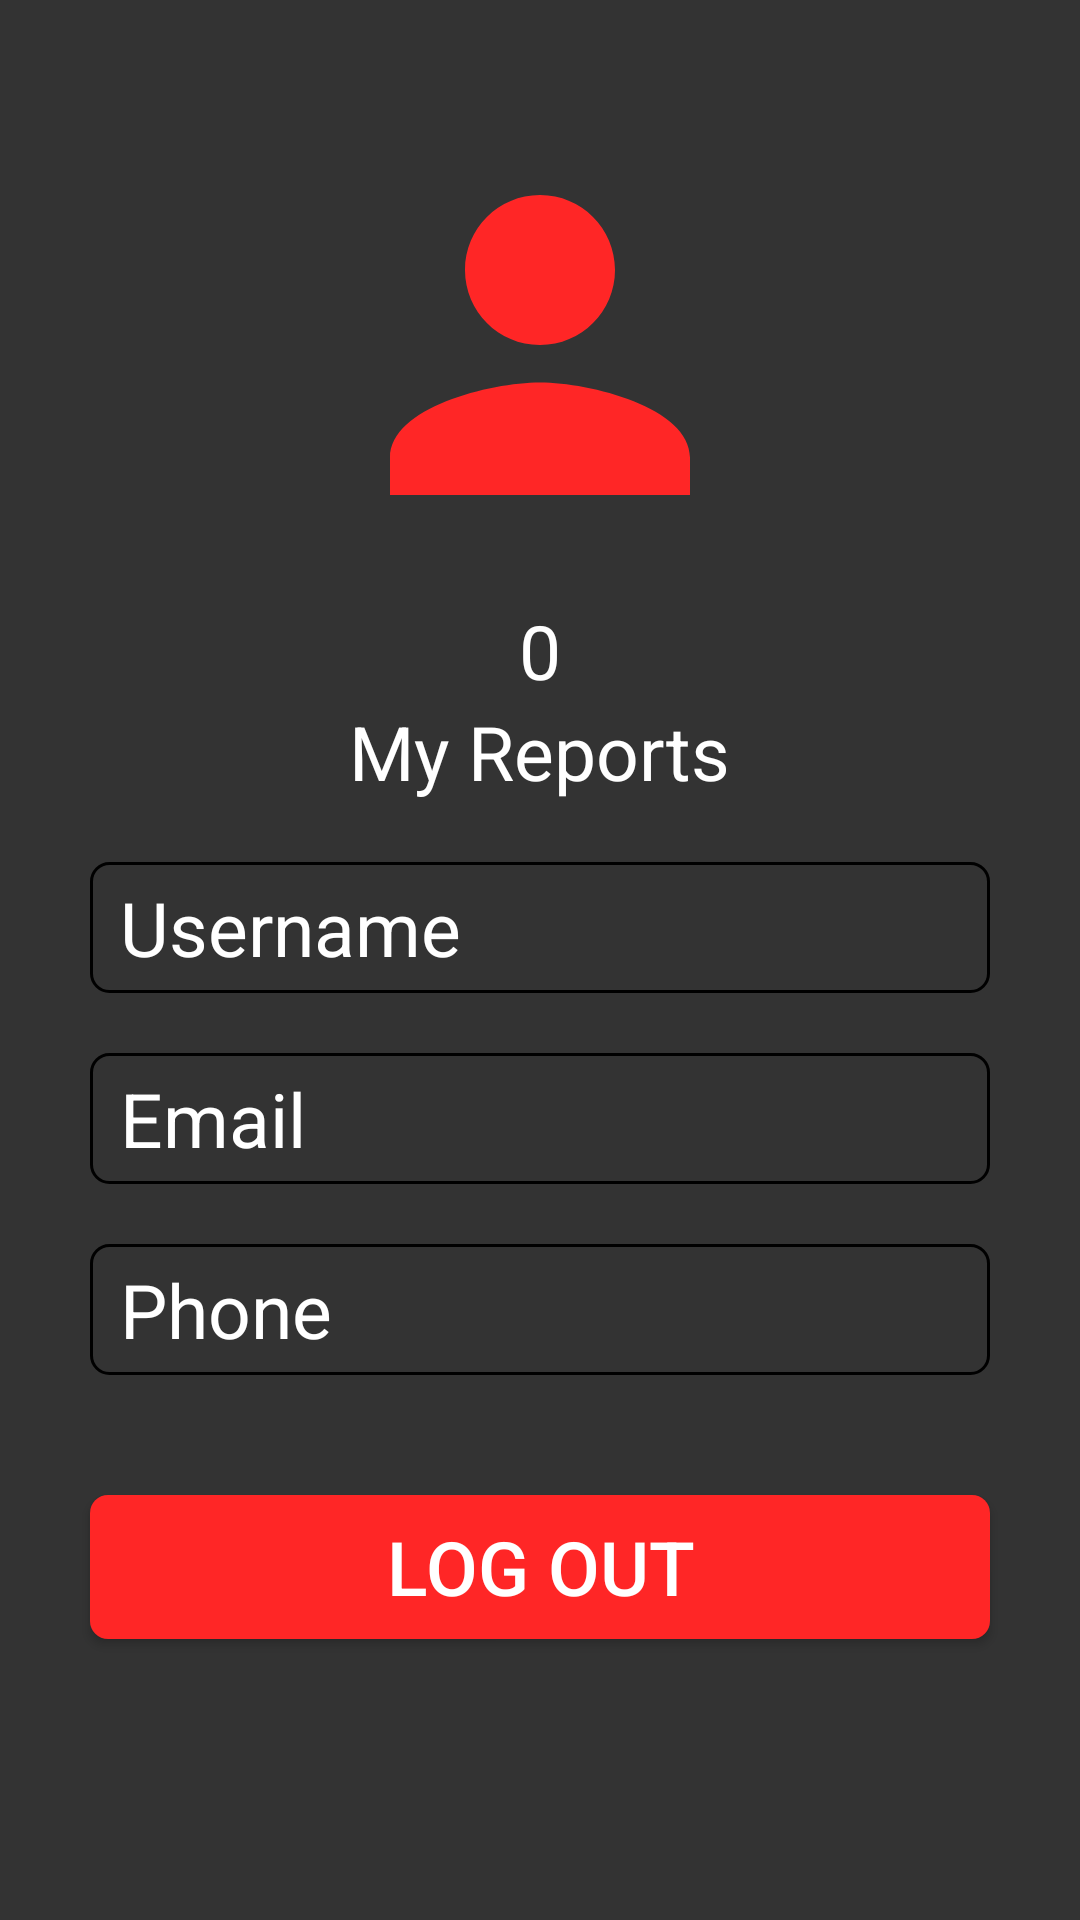

Where to tap for icons on this 1080w x 1920h app screen, as (x=x, y=y):
profile: (x=540, y=345)
